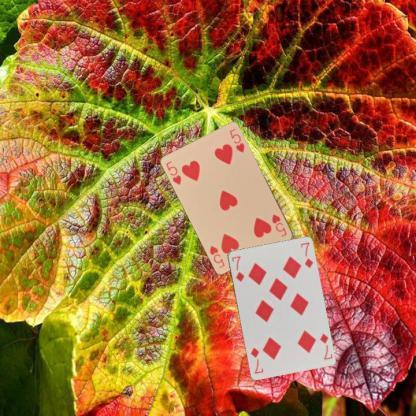5h: (164, 158, 182, 186), (270, 211, 288, 238)
7d: (318, 330, 334, 360), (229, 254, 245, 283)
